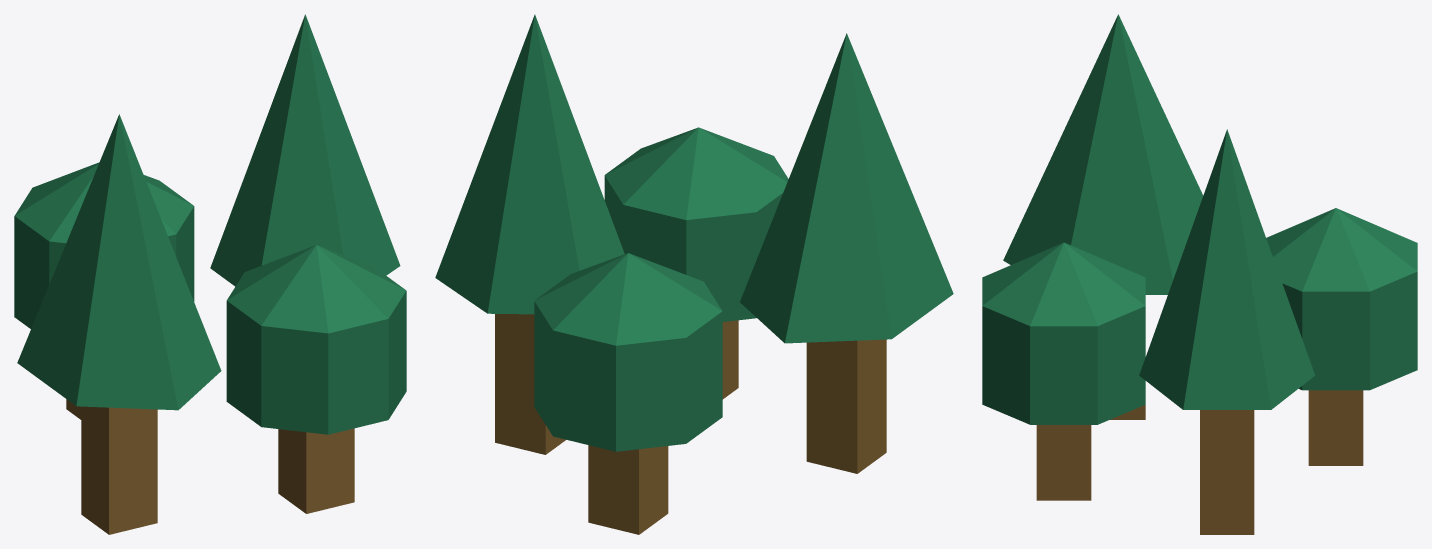
The model's file is forest.obj.
3 renders of one model, left to right at view 1: azimuth 30°, elevation 25°; view 2: azimuth 150°, elevation 25°; view 3: azimuth 270°, elevation 25°, orthographic. The views are drawn at different scales.
Visible parts, largest first — view 1: cone, cylinder, cuboid; view 2: cone, cylinder, cuboid; view 3: cone, cylinder, cuboid.
Part boxes in pixels (bbox=[...]): cone: bbox=[17, 14, 400, 410]; cylinder: bbox=[14, 162, 406, 434]; cuboid: bbox=[66, 399, 354, 534]; cone: bbox=[435, 14, 953, 343]; cylinder: bbox=[534, 127, 788, 451]; cuboid: bbox=[495, 314, 886, 534]; cone: bbox=[1003, 14, 1314, 409]; cylinder: bbox=[982, 208, 1417, 424]; cuboid: bbox=[1036, 390, 1363, 534].
Size of the model in its own units: 1 by 1 by 1.
1 material, 1 textured.
